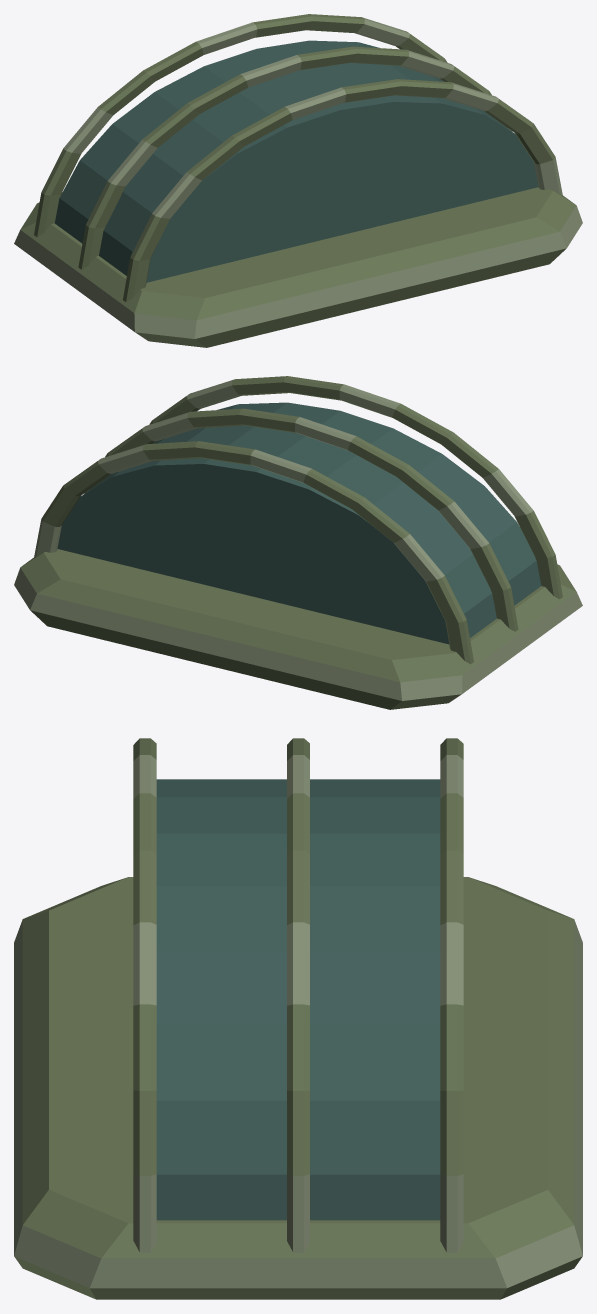
The model's file is greenhouse-habitat.glb.
The picture shows the model from 3 angles, top to bottom: view 1: azimuth 30°, elevation 25°; view 2: azimuth 150°, elevation 25°; view 3: azimuth 270°, elevation 25°; orthographic projection. The views are drawn at different scales.
Parts seen in each view (by area): view 1: greenhouse-habitat; view 2: greenhouse-habitat; view 3: greenhouse-habitat.
Boxes of the visible parts, x1=… form: greenhouse-habitat: x1=14, y1=14, x2=582, y2=347; greenhouse-habitat: x1=14, y1=376, x2=582, y2=709; greenhouse-habitat: x1=14, y1=738, x2=582, y2=1299.
Bounding box in the file's own units: 9.2 × 3.76 × 5.86.
